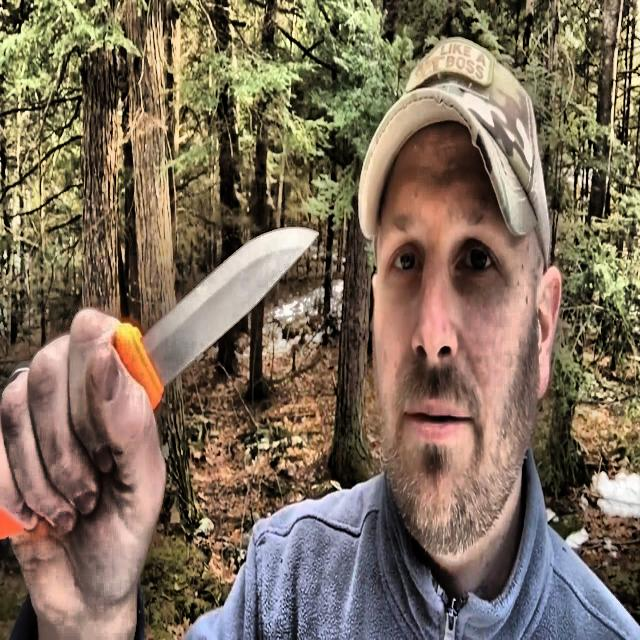knife: (1, 227, 316, 537)
